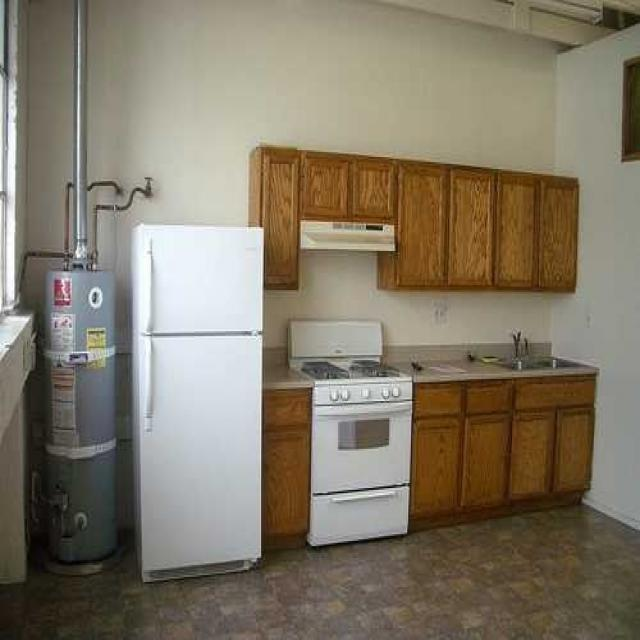refrigerator: (132, 218, 265, 583)
